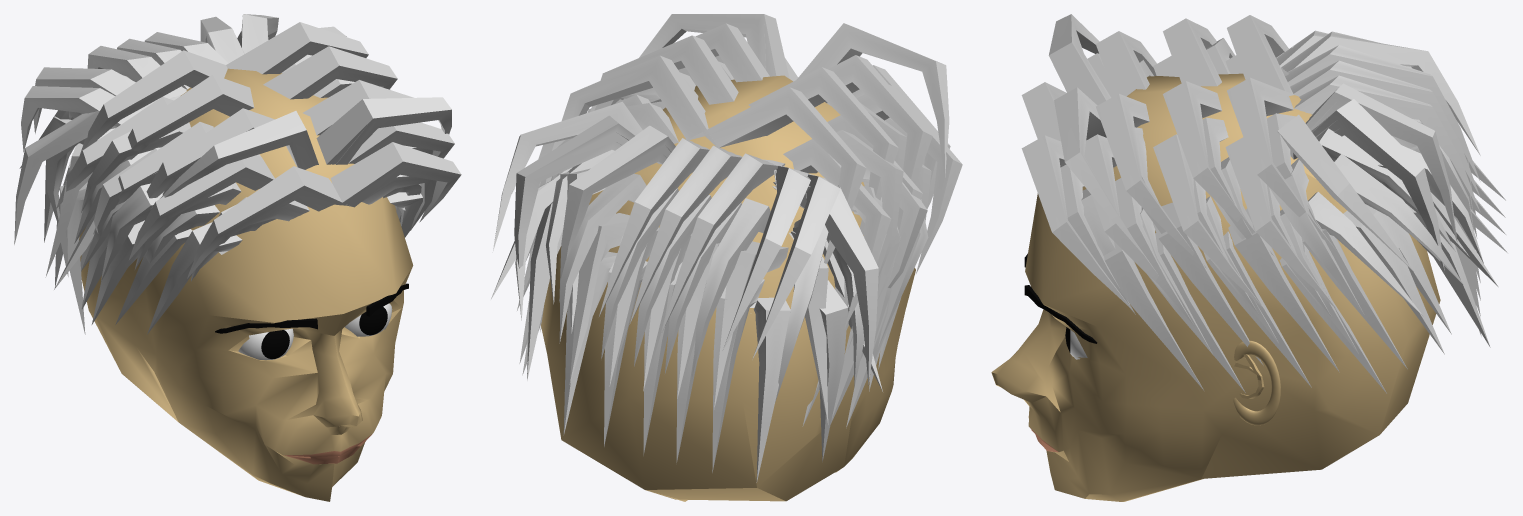
Rendered from head.fbx.
3 views of the same model, side by side, from view 1: azimuth 30°, elevation 25°; view 2: azimuth 150°, elevation 25°; view 3: azimuth 270°, elevation 25° (orthographic). The views are drawn at different scales.
Parts seen in each view (by area): view 1: 顔, ピラミッド, ピラミッド_16, ピラミッド_24, ピラミッド_65, ピラミッド_64, ピラミッド_8, ピラミッド_3, ピラミッド_63, ピラミッド_59, ピラミッド_7, ピラミッド_17 (+27 smaller); view 2: 顔, ピラミッド_24, ピラミッド_65, ピラミッド_16, ピラミッド_8, ピラミッド_39, ピラミッド_35, ピラミッド_63, ピラミッド_51, ピラミッド_47, ピラミッド_64, ピラミッド_43 (+39 smaller); view 3: 顔, ピラミッド_24, ピラミッド_65, ピラミッド_16, ピラミッド_8, ピラミッド, ピラミッド_35, ピラミッド_15, ピラミッド_39, ピラミッド_31, ピラミッド_23, ピラミッド_55 (+36 smaller).
Part boxes in pixels (<box>): 顔: <box>79,68,413,501</box>; ピラミッド: <box>187,142,461,278</box>; ピラミッド_16: <box>120,46,397,163</box>; ピラミッド_24: <box>79,22,368,155</box>; ピラミッド_65: <box>150,97,451,209</box>; ピラミッド_64: <box>129,99,372,259</box>; ピラミッド_8: <box>146,80,413,198</box>; ピラミッド_3: <box>147,192,423,334</box>; ピラミッド_63: <box>14,110,116,244</box>; ピラミッド_59: <box>21,86,141,152</box>; ピラミッド_7: <box>348,122,454,163</box>; ピラミッド_17: <box>81,79,379,212</box>; 顔: <box>541,75,915,501</box>; ピラミッド_24: <box>545,55,866,263</box>; ピラミッド_65: <box>639,14,949,177</box>; ピラミッド_16: <box>590,35,898,235</box>; ピラミッド_8: <box>695,23,932,184</box>; ピラミッド_39: <box>559,125,675,302</box>; ピラミッド_35: <box>514,115,634,268</box>; ピラミッド_63: <box>772,182,878,385</box>; ピラミッド_51: <box>661,153,785,332</box>; ピラミッド_47: <box>629,145,742,324</box>; ピラミッド_64: <box>764,14,962,273</box>; ピラミッド_43: <box>599,138,709,316</box>; 顔: <box>991,73,1440,501</box>; ピラミッド_24: <box>1227,15,1337,252</box>; ピラミッド_65: <box>1048,14,1142,253</box>; ピラミッド_16: <box>1163,18,1273,255</box>; ピラミッド_8: <box>1096,31,1206,268</box>; ピラミッド: <box>1021,82,1132,310</box>; ピラミッド_35: <box>1311,99,1444,272</box>; ピラミッド_15: <box>1153,56,1264,309</box>; ピラミッド_39: <box>1305,83,1457,242</box>; ピラミッド_31: <box>1277,114,1413,271</box>; ピラミッド_23: <box>1225,55,1336,309</box>; ピラミッド_55: <box>1281,31,1480,155</box>.
Bounding box in the file's own units: 176 × 207 × 213.
